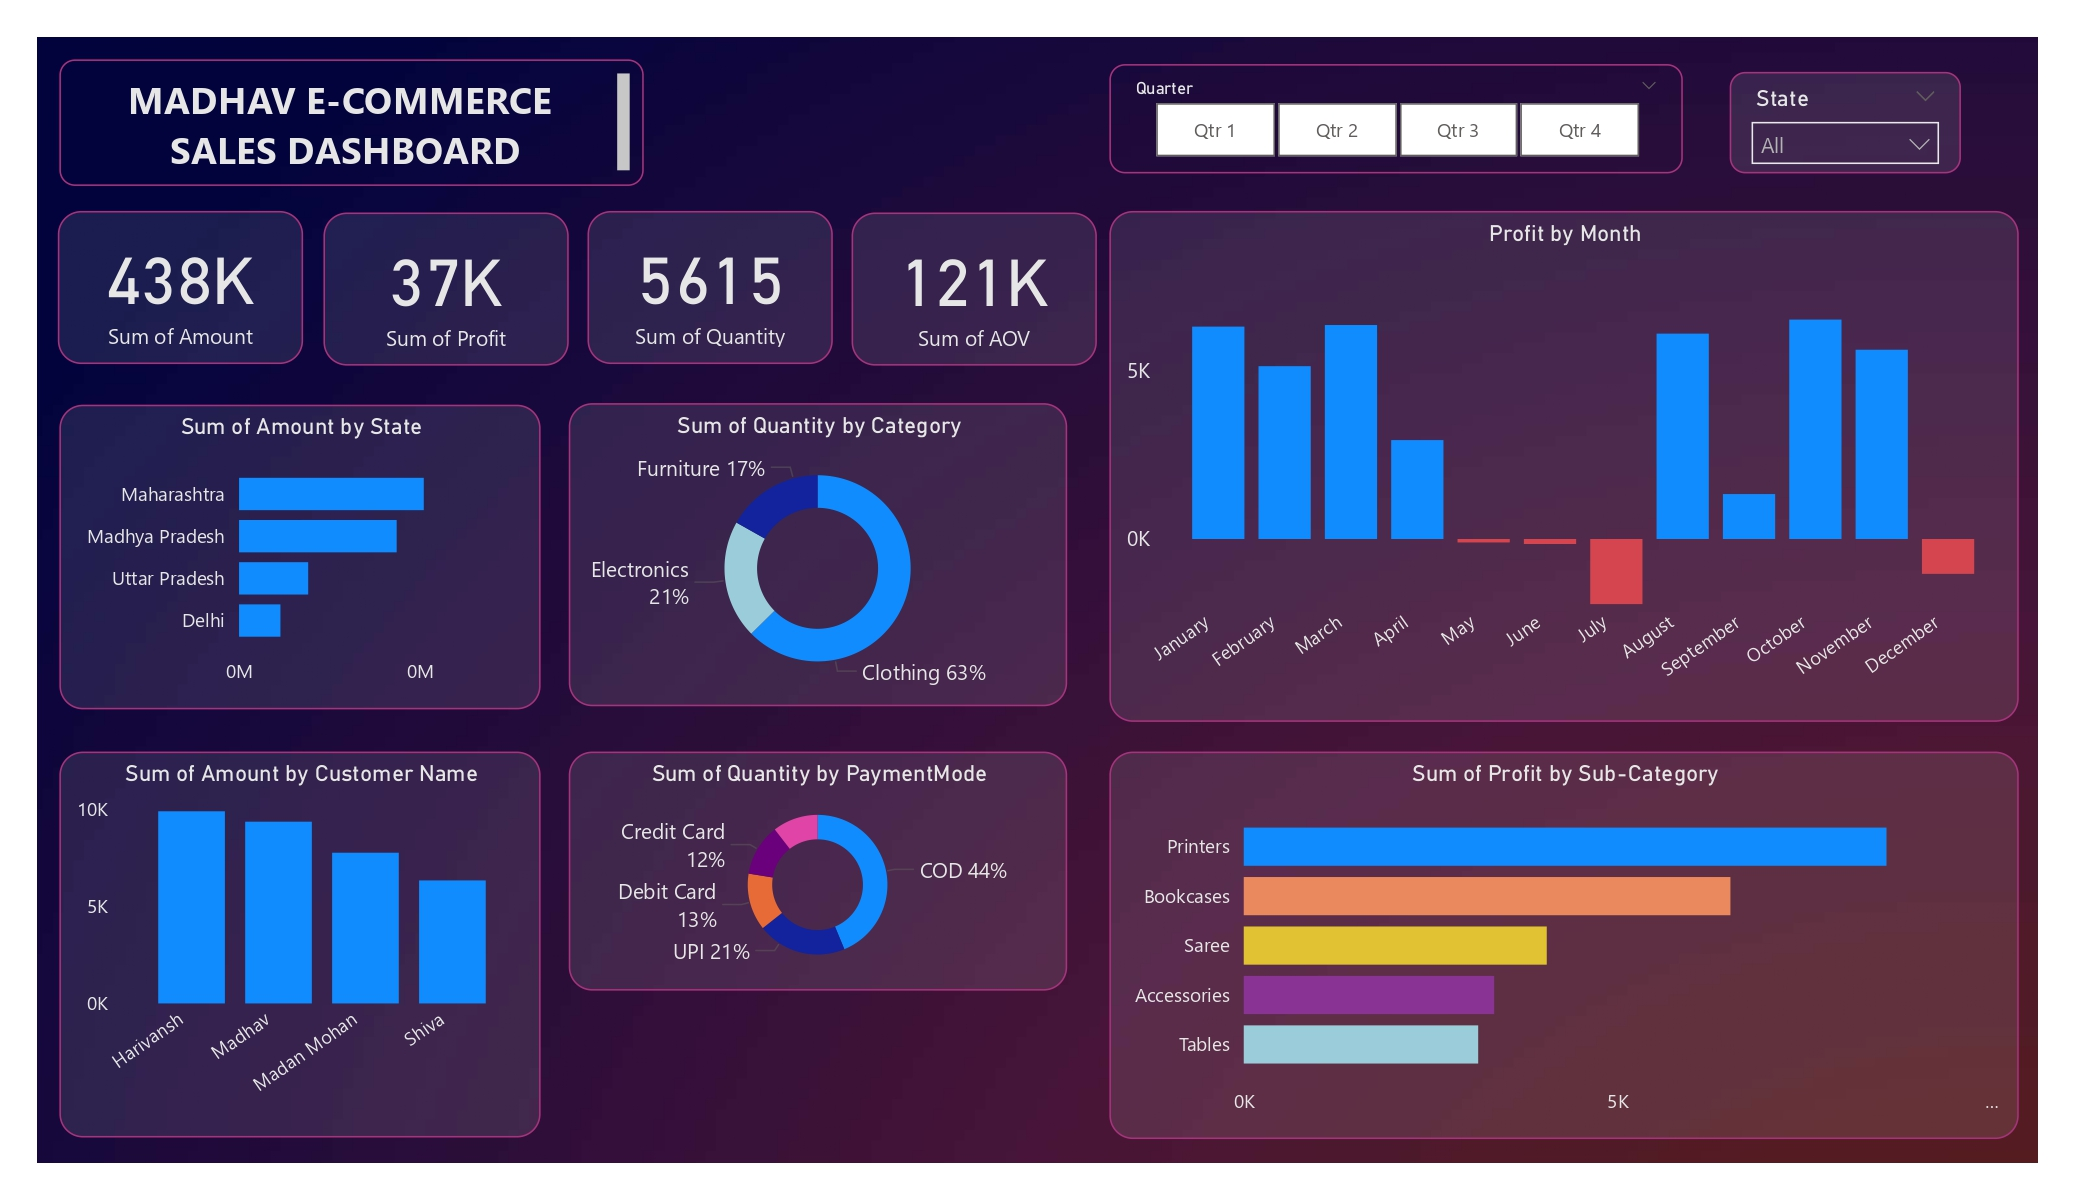

This screenshot's page, from the dashboard's own definition file:
{"tool":"powerbi","page":{"name":"Page 1","canvas":[1280,720],"ordinal":0},"visuals":[{"type":"textbox","box":[13.7,13.7,374.6,81],"z":0},{"type":"columnChart","title":"Profit by Month","fields":{"Y":["Details.Profit"],"Category":["Orders.Order Date.Variation.Date Hierarchy.Month"]},"box":[686.5,111,581.5,326.9],"z":1000},{"type":"barChart","fields":{"Category":["Details.Sub-Category"],"Y":["Details.Profit"]},"box":[686.5,457.2,581.5,247.3],"z":2000},{"type":"donutChart","fields":{"Category":["Details.Category"],"Y":["Details.Quantity"]},"box":[340.2,234,318.5,194.2],"z":3000},{"type":"donutChart","fields":{"Y":["Details.Quantity"],"Category":["Details.PaymentMode"]},"box":[340.2,457.2,318.5,153.2],"z":4000},{"type":"card","fields":{"Values":["Details.Amount"]},"box":[13.3,111,156.8,97.7],"z":5000},{"type":"card","fields":{"Values":["Details.Profit"]},"box":[183.4,112.2,156.8,97.7],"z":6000},{"type":"card","fields":{"Values":["Details.Quantity"]},"box":[352.3,111,156.8,97.7],"z":7000},{"type":"card","fields":{"Values":["Details.AOV"]},"box":[521.2,112.2,156.8,97.7],"z":8000},{"type":"barChart","fields":{"Category":["Orders.State"],"Y":["Details.Amount"]},"box":[13.7,234.6,308.7,194.9],"z":9000},{"type":"columnChart","fields":{"Category":["Orders.Customer Name"],"Y":["Details.Amount"]},"box":[13.7,456.9,308.7,247],"z":10000},{"type":"slicer","fields":{"Values":["Orders.Order Date.Variation.Date Hierarchy.Quarter"]},"box":[686.5,16.9,366.8,70],"z":11000},{"type":"slicer","fields":{"Values":["Orders.State"]},"box":[1083.4,21.7,147.2,65.1],"z":12000}]}

Visuals, with their boxes on the page's 1280x720 design canvas (x1, y1, x2, y2). These are canvas units, not pixel positions in the 2075x1200 screenshot, which may show the page scaled, cropped or inside an application window:
textbox: x1=14, y1=14, x2=388, y2=95
"Profit by Month" columnChart: x1=686, y1=111, x2=1268, y2=438
barChart - Details.Sub-Category x Details.Profit: x1=686, y1=457, x2=1268, y2=704
donutChart - Details.Category x Details.Quantity: x1=340, y1=234, x2=659, y2=428
donutChart - Details.Quantity x Details.PaymentMode: x1=340, y1=457, x2=659, y2=610
card - Details.Amount: x1=13, y1=111, x2=170, y2=209
card - Details.Profit: x1=183, y1=112, x2=340, y2=210
card - Details.Quantity: x1=352, y1=111, x2=509, y2=209
card - Details.AOV: x1=521, y1=112, x2=678, y2=210
barChart - Orders.State x Details.Amount: x1=14, y1=235, x2=322, y2=430
columnChart - Orders.Customer Name x Details.Amount: x1=14, y1=457, x2=322, y2=704
slicer - Orders.Order Date.Variation.Date Hierarchy.Quarter: x1=686, y1=17, x2=1053, y2=87
slicer - Orders.State: x1=1083, y1=22, x2=1231, y2=87
